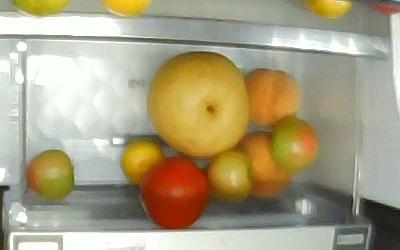peach: (235, 131, 293, 198), (243, 65, 299, 127)
pear: (145, 50, 250, 157)
tangerine: (119, 137, 163, 184)
tomato: (137, 154, 209, 229), (25, 148, 75, 200), (270, 116, 318, 170), (205, 149, 252, 202)
